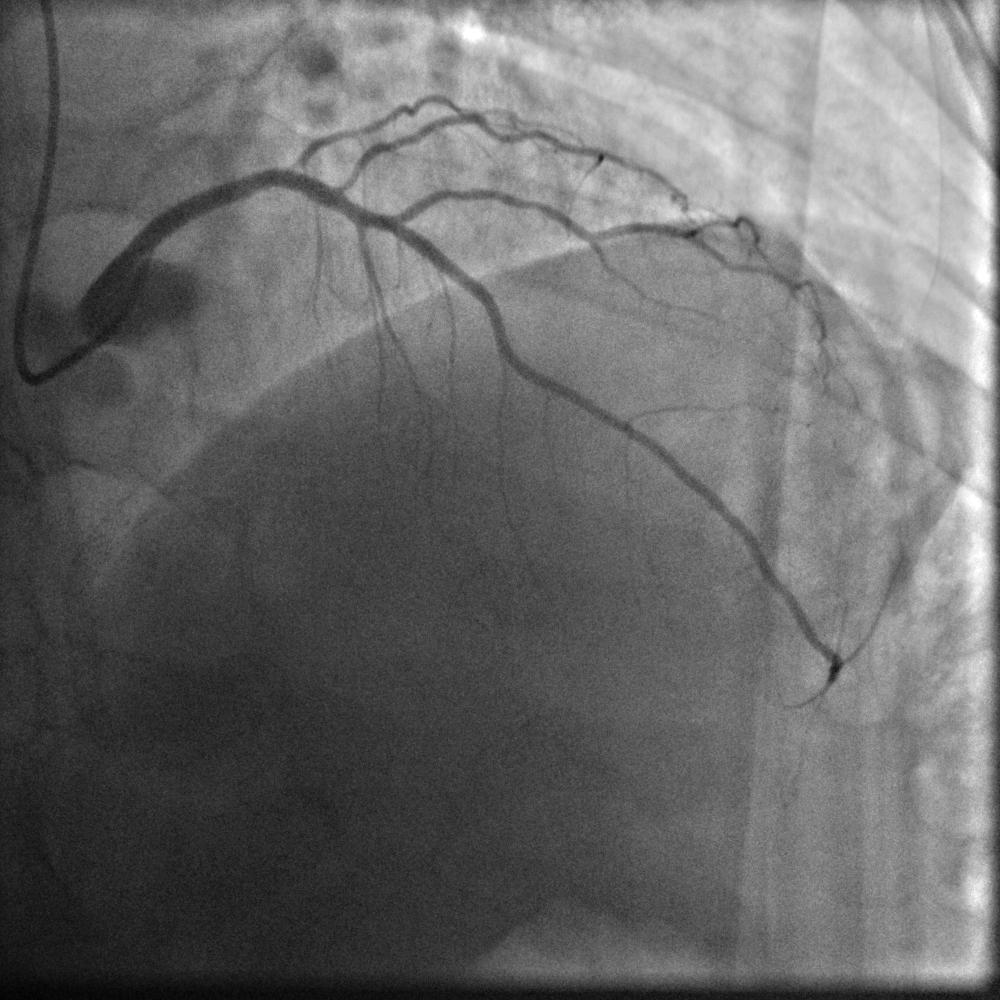Stenosis: (290, 137, 361, 200)
